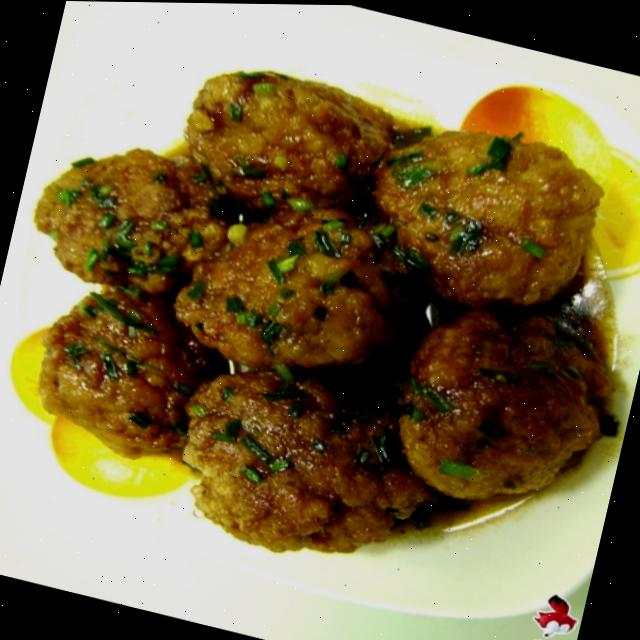猪肉菜式: (0, 0, 640, 634)
